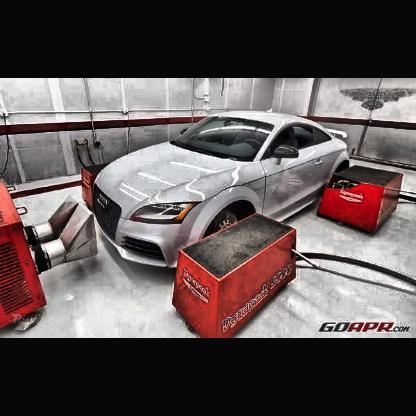Audi TT RS Coupe 2012: (91, 108, 353, 273)
